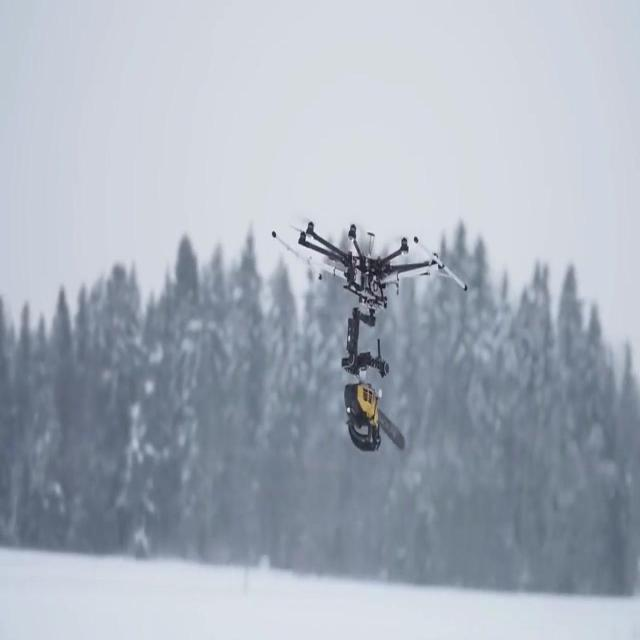drone: (273, 219, 467, 377)
